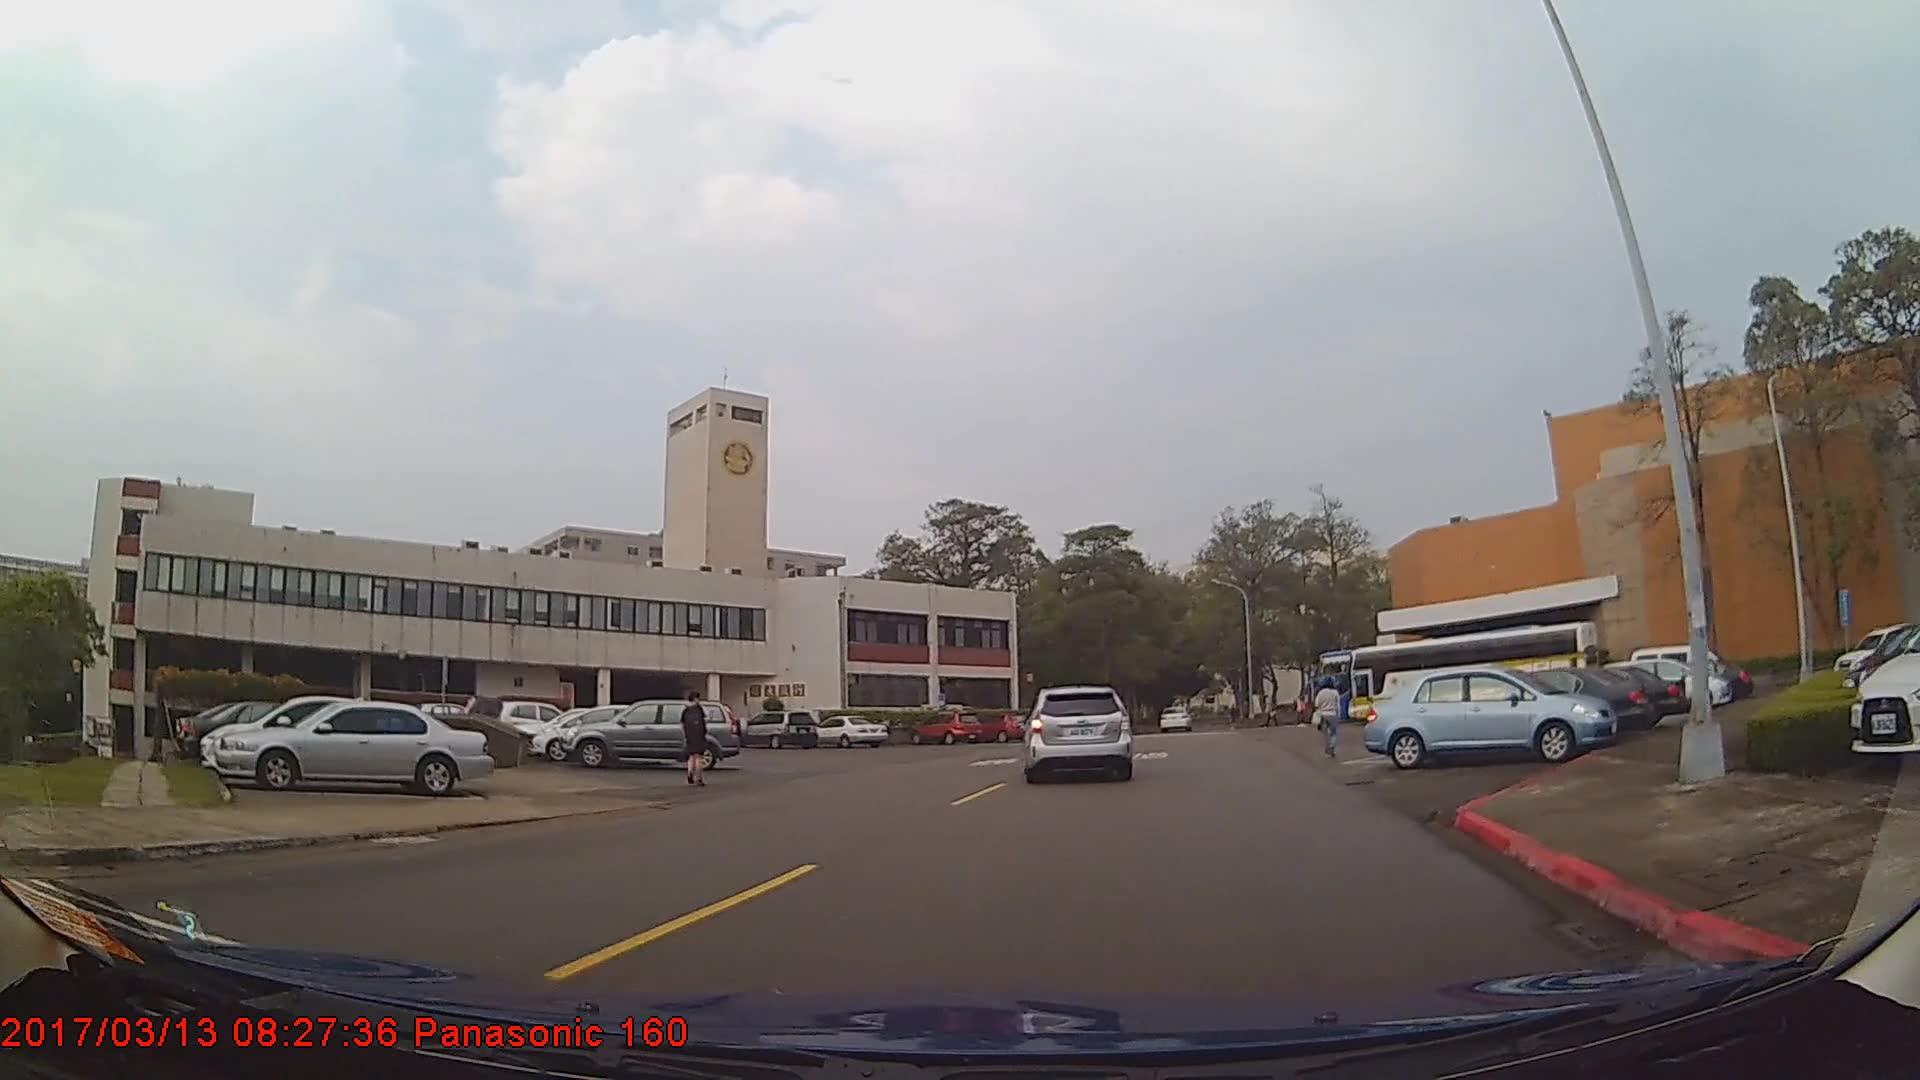pedestrian: (1310, 675, 1347, 763), (681, 693, 710, 789)
vehicle: (213, 697, 495, 794), (1362, 663, 1615, 767), (196, 690, 433, 778), (1430, 666, 1655, 740), (558, 696, 747, 768), (182, 701, 381, 767), (1509, 665, 1688, 727), (1848, 607, 1920, 753), (1025, 685, 1132, 783), (532, 700, 680, 760), (496, 697, 580, 747), (737, 707, 818, 749), (811, 712, 889, 746), (911, 709, 984, 745), (1158, 705, 1193, 733)
